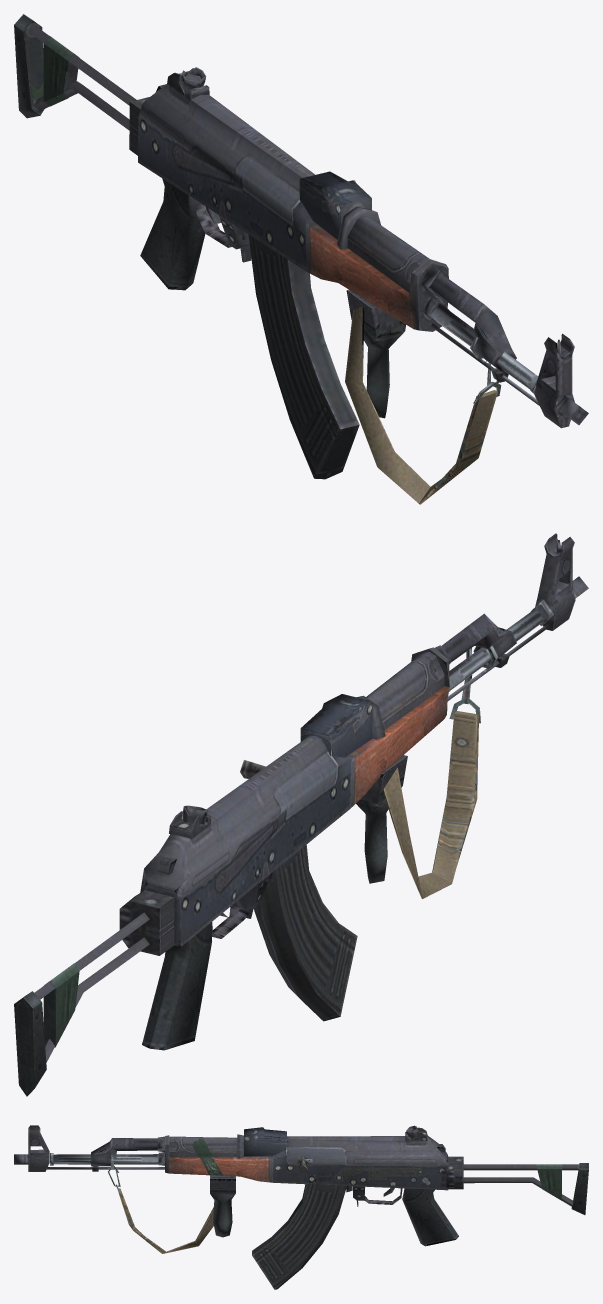
Rendered from Assault_Rifle_bq_qs_01_LOD1_Body_LOD_(000680).glb.
3 views of the same model, one above another, from view 1: azimuth 30°, elevation 25°; view 2: azimuth 150°, elevation 25°; view 3: azimuth 270°, elevation 25° (orthographic). The views are drawn at different scales.
Parts seen in each view (by area): view 1: bq_qs_01_LOD1; view 2: bq_qs_01_LOD1; view 3: bq_qs_01_LOD1.
Part boxes in pixels (box(x1,y1,x2,y2)): bq_qs_01_LOD1: box(14, 14, 588, 504); bq_qs_01_LOD1: box(14, 533, 588, 1096); bq_qs_01_LOD1: box(14, 1125, 588, 1289).
Size of the model in its own units: 0.1425 by 0.503 by 1.62.
Materials: 1 (1 with a texture image).
